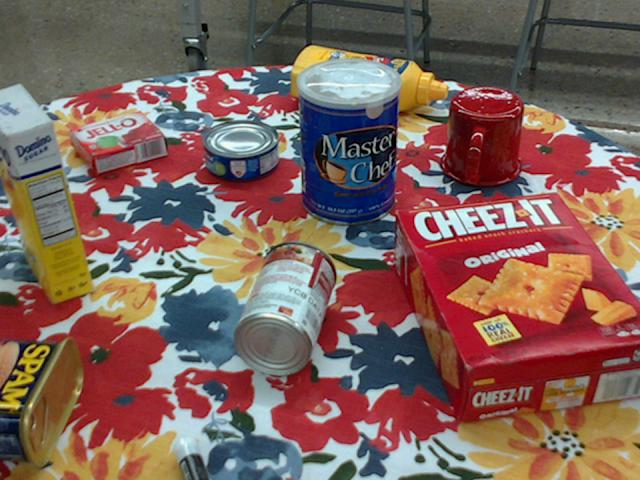cracker_box: (392, 192, 639, 424)
gelatin_box: (69, 113, 166, 177)
large_marker: (173, 436, 208, 479)
master_chef_can: (297, 58, 402, 226)
mug: (438, 88, 523, 187)
mustard_bottle: (289, 45, 446, 110)
potted_meat_can: (0, 336, 82, 465)
sugar_box: (0, 83, 92, 303)
tomato_soup_can: (234, 241, 335, 376)
tuna_fish_can: (201, 120, 277, 181)
